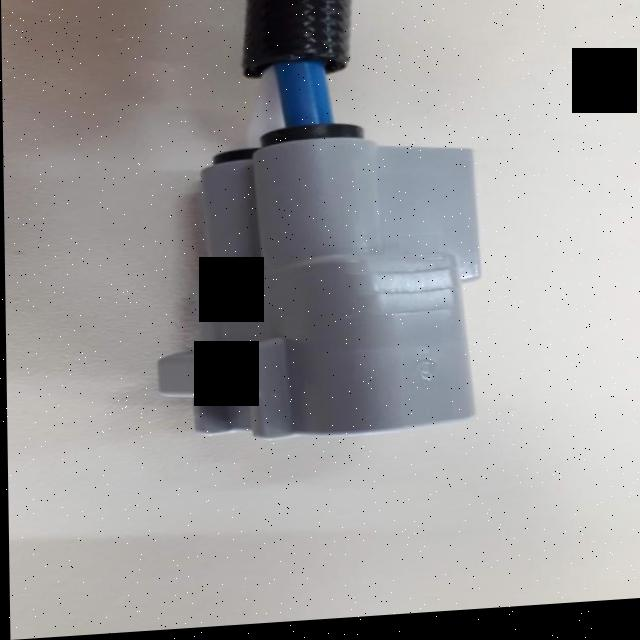connector: (155, 135, 483, 450)
